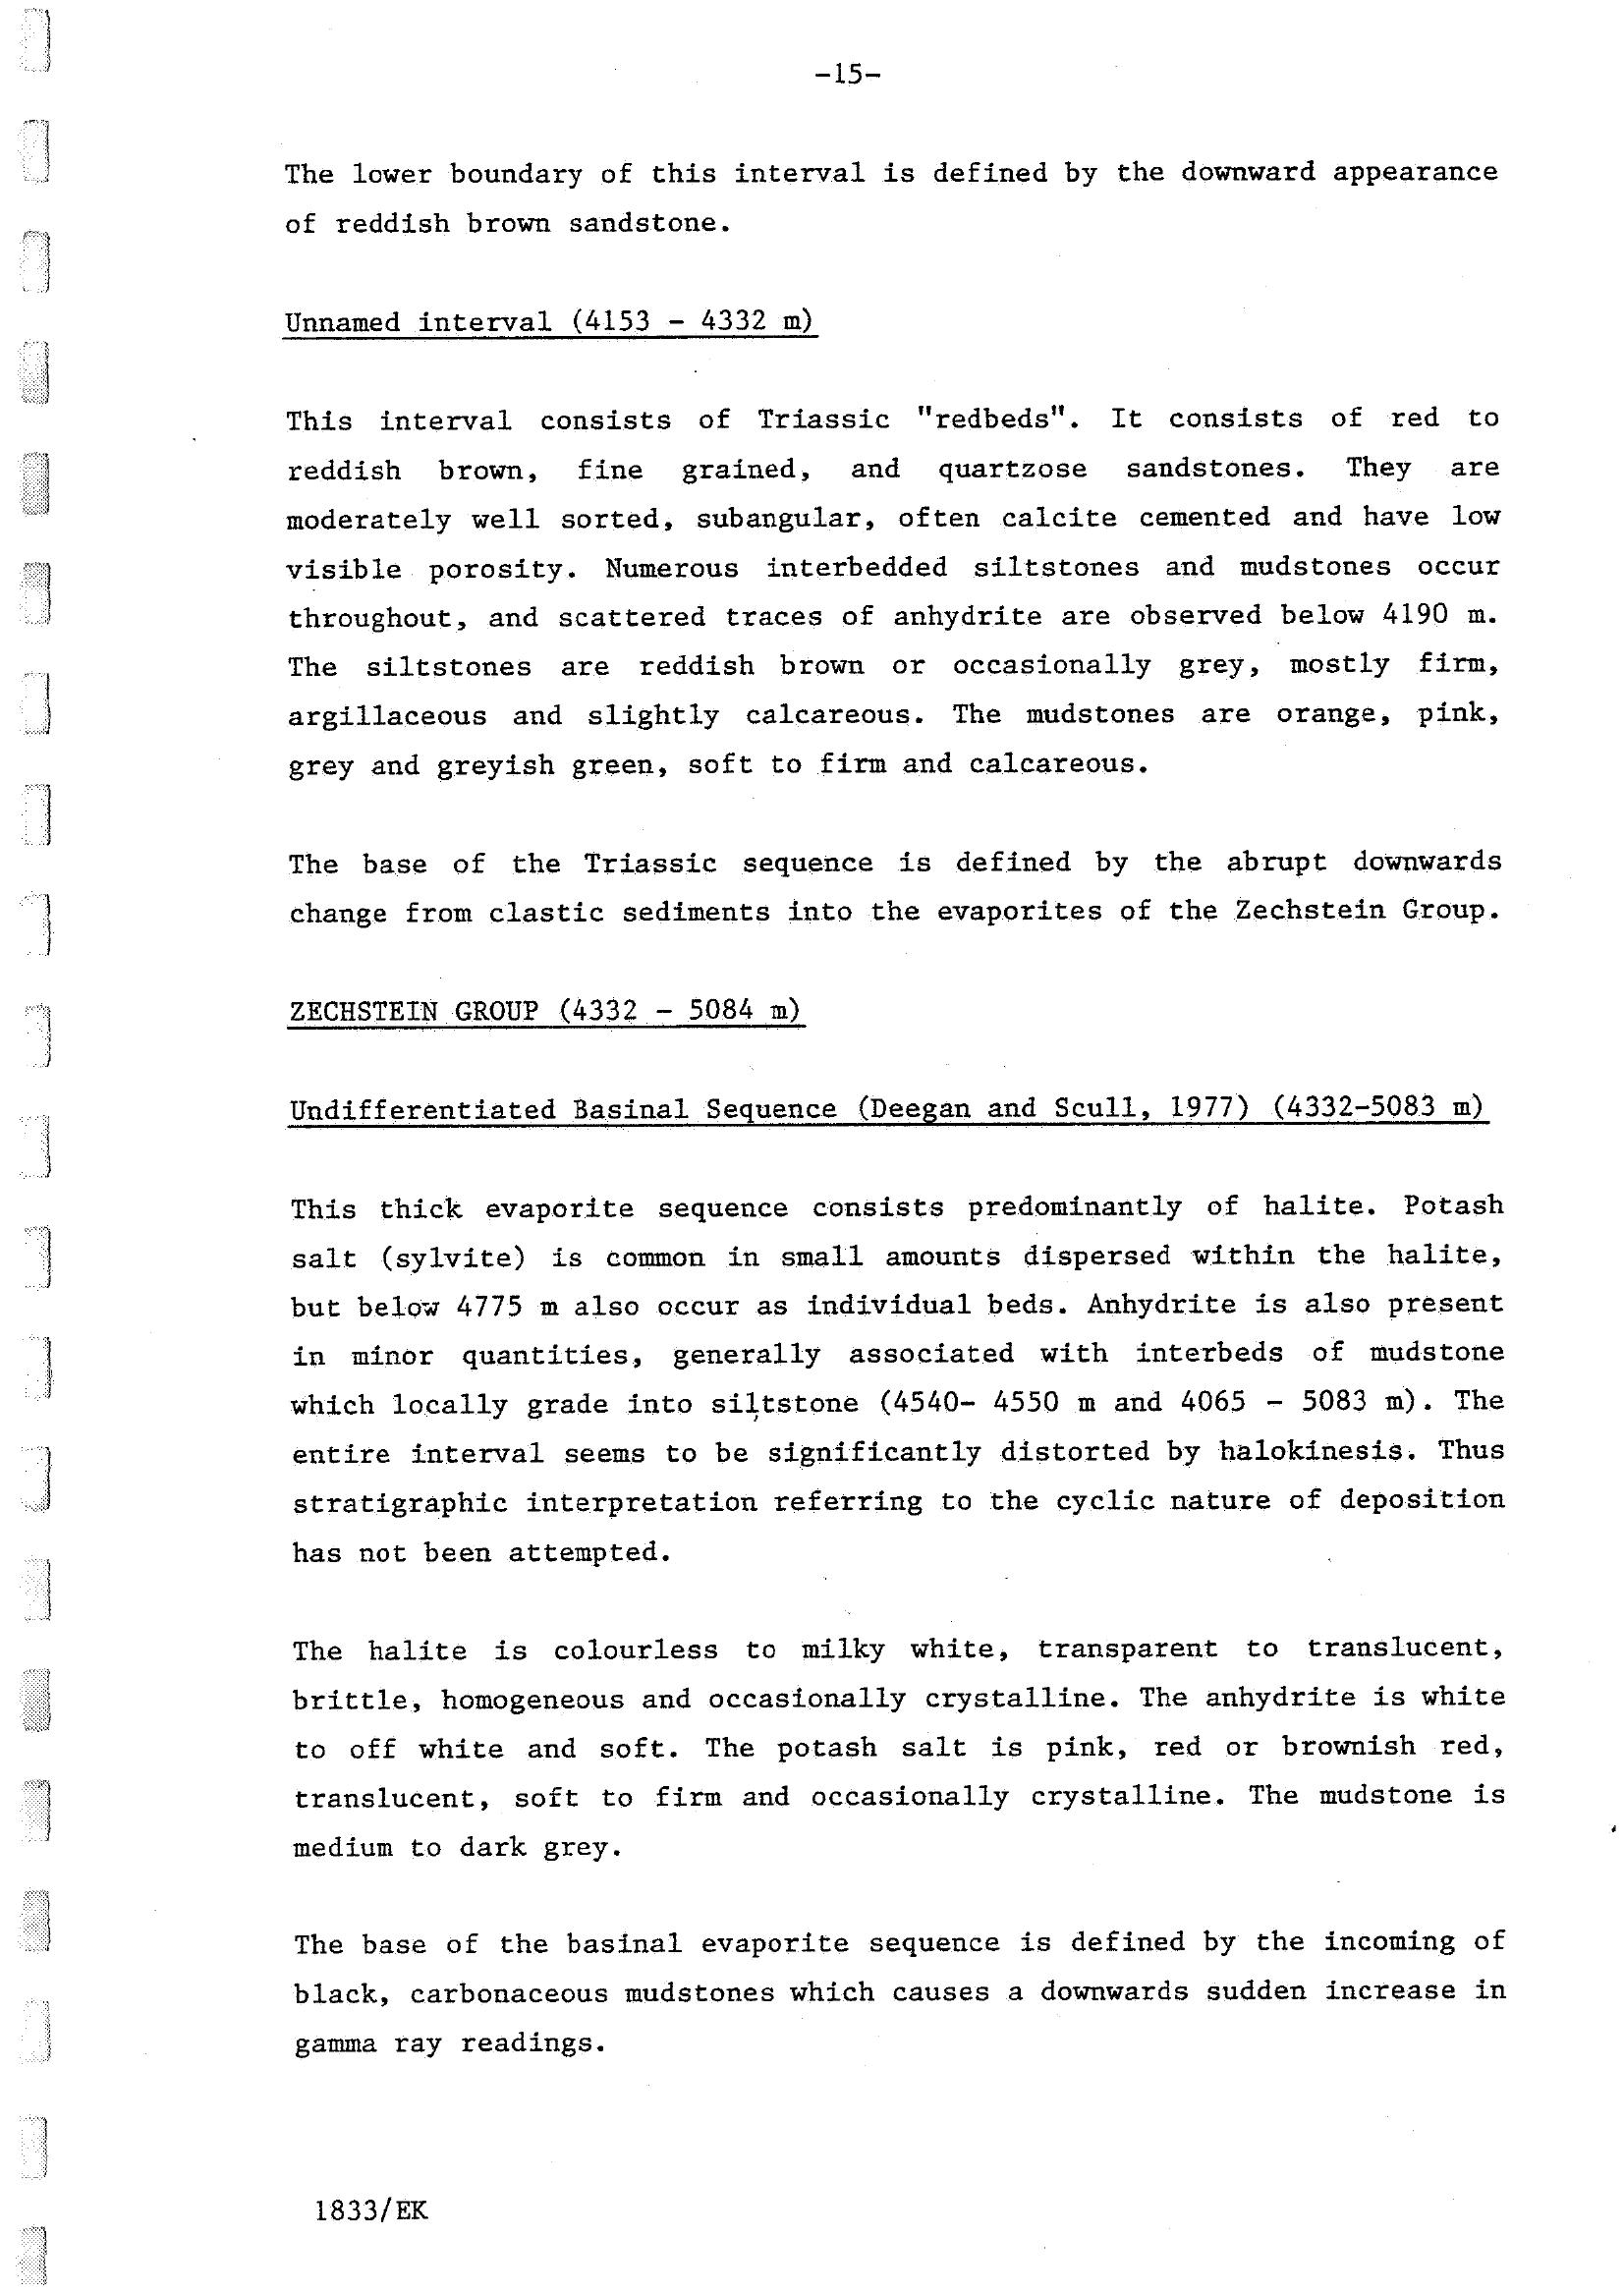text: (251, 139, 1561, 2119)
